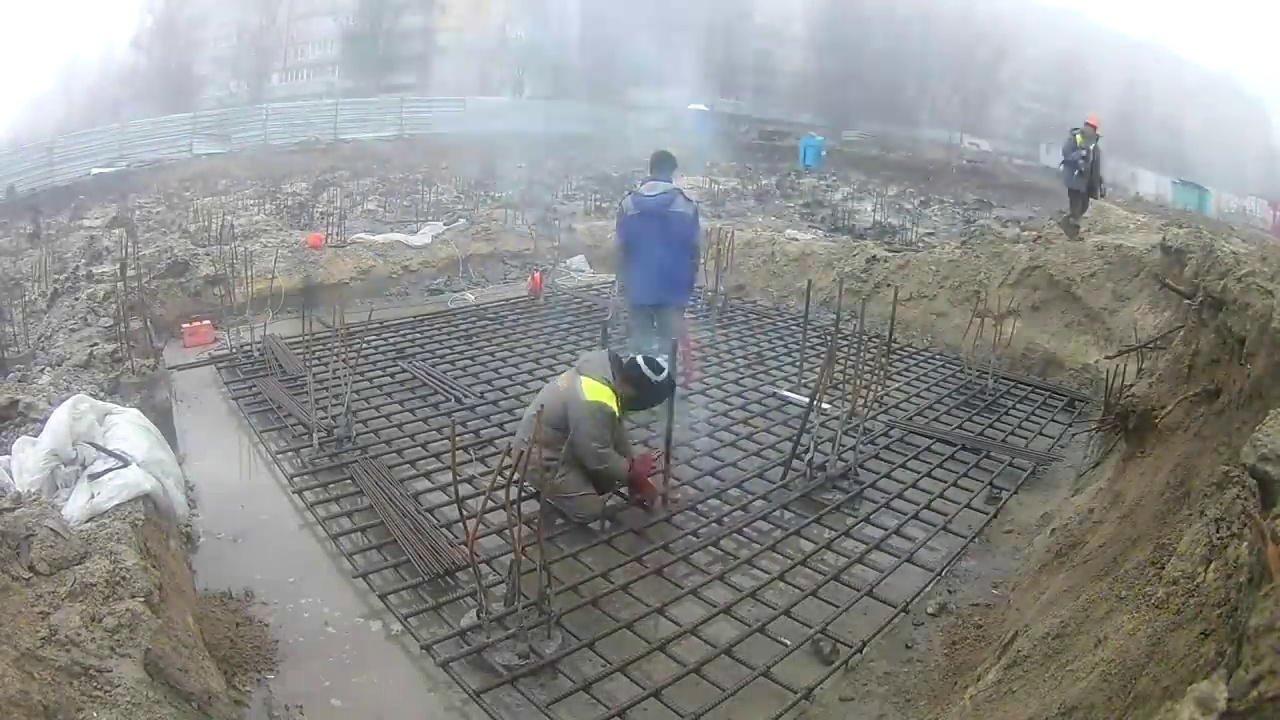helmet: (527, 271, 541, 297), (305, 234, 322, 249), (1084, 115, 1099, 131)
helmet-off: (611, 348, 674, 412), (645, 150, 679, 188)
helmet-on: (1084, 114, 1103, 141)
person: (511, 347, 675, 539), (602, 146, 703, 433), (1055, 115, 1104, 243)
